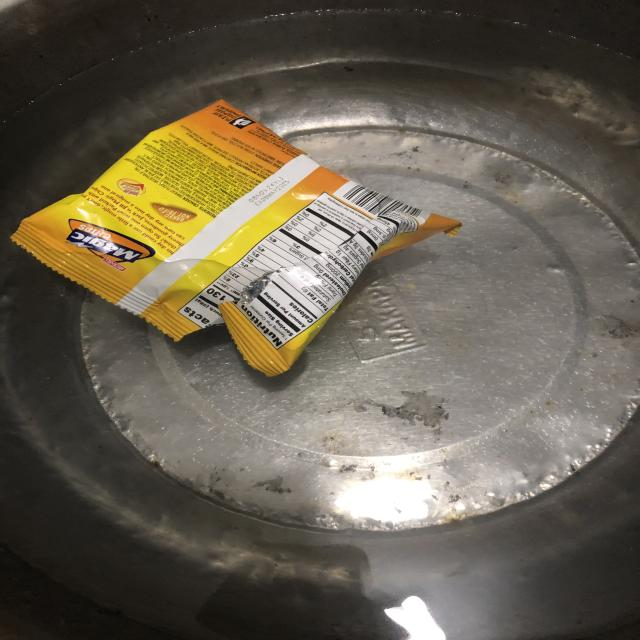Plastic Wrapper: (0, 79, 491, 392)
